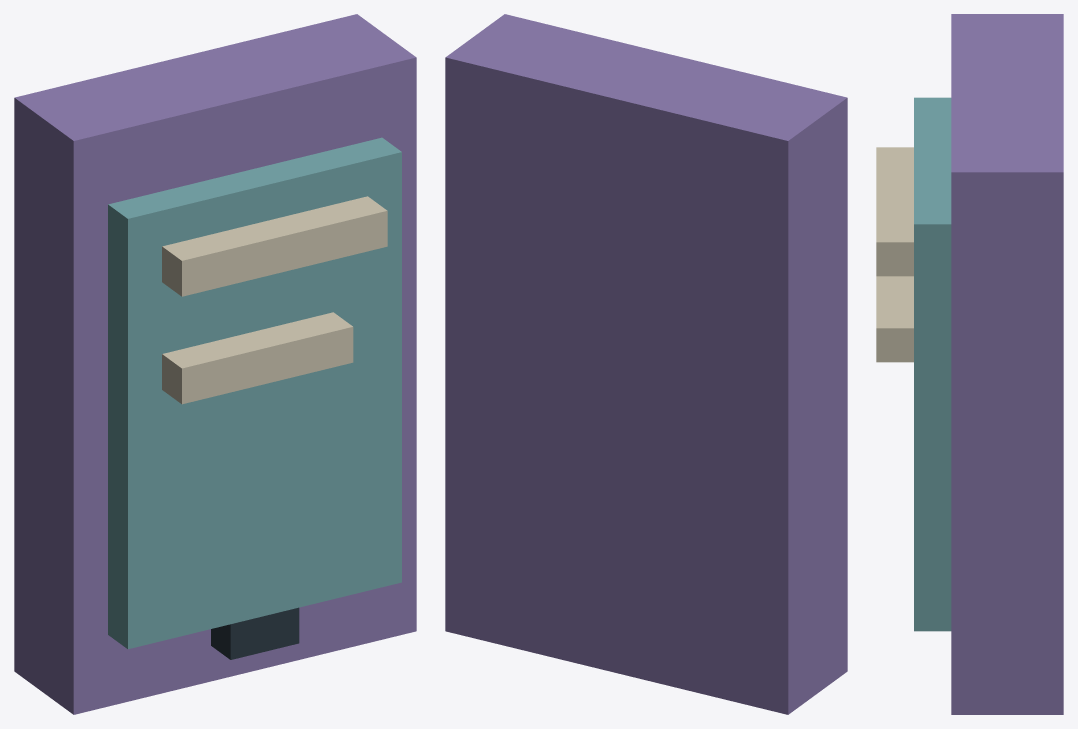
File: software-15.glb
3 renders of one model, left to right at view 1: azimuth 30°, elevation 25°; view 2: azimuth 150°, elevation 25°; view 3: azimuth 270°, elevation 25°, orthographic. The views are drawn at different scales.
Visible parts, largest first — view 1: Feature phone; view 2: Feature phone; view 3: Feature phone.
Part boxes in pixels (bbox=[...]): Feature phone: bbox=[14, 14, 416, 714]; Feature phone: bbox=[445, 14, 847, 714]; Feature phone: bbox=[876, 14, 1063, 714].
Size of the model in its own units: 0.8 by 1.28 by 0.4.
